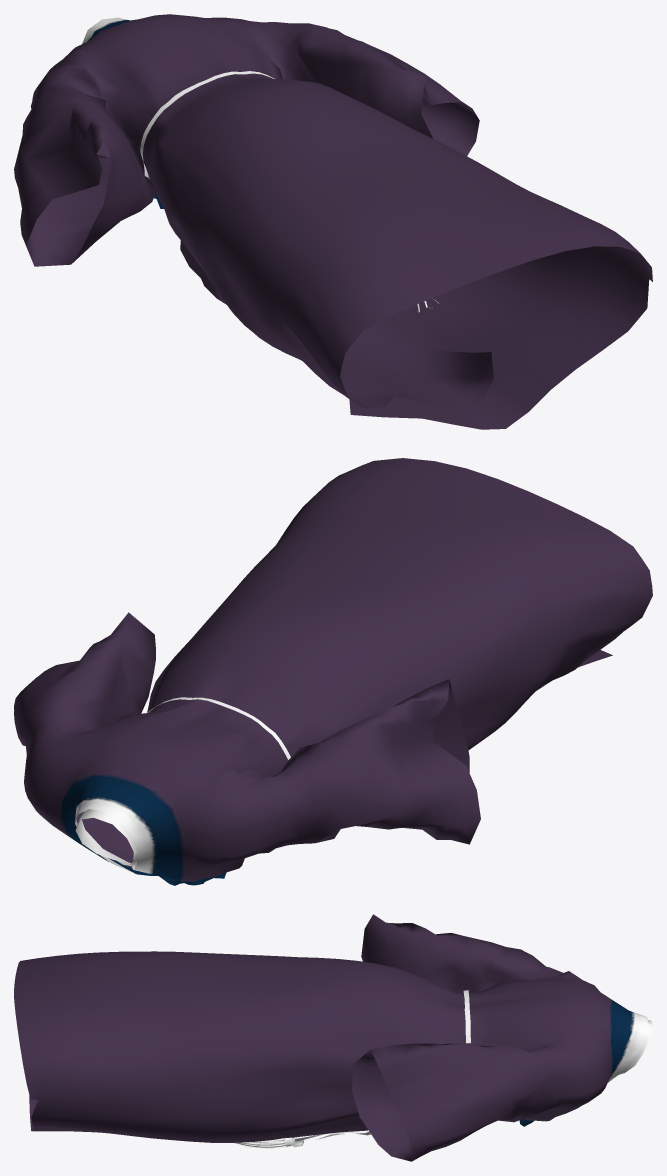
File: Yangban_Upper.dae
3 views of the same model, one above another, from view 1: azimuth 30°, elevation 25°; view 2: azimuth 150°, elevation 25°; view 3: azimuth 270°, elevation 25° (orthographic). The views are drawn at different scales.
Parts seen in each view (by area): view 1: Yangban_Upper; view 2: Yangban_Upper; view 3: Yangban_Upper.
Part boxes in pixels (<box>): Yangban_Upper: <box>14,14,652,429</box>; Yangban_Upper: <box>14,458,652,885</box>; Yangban_Upper: <box>14,914,652,1161</box>.
Size of the model in its own units: 64.14 by 97.77 by 26.5.
1 material, 1 textured.
